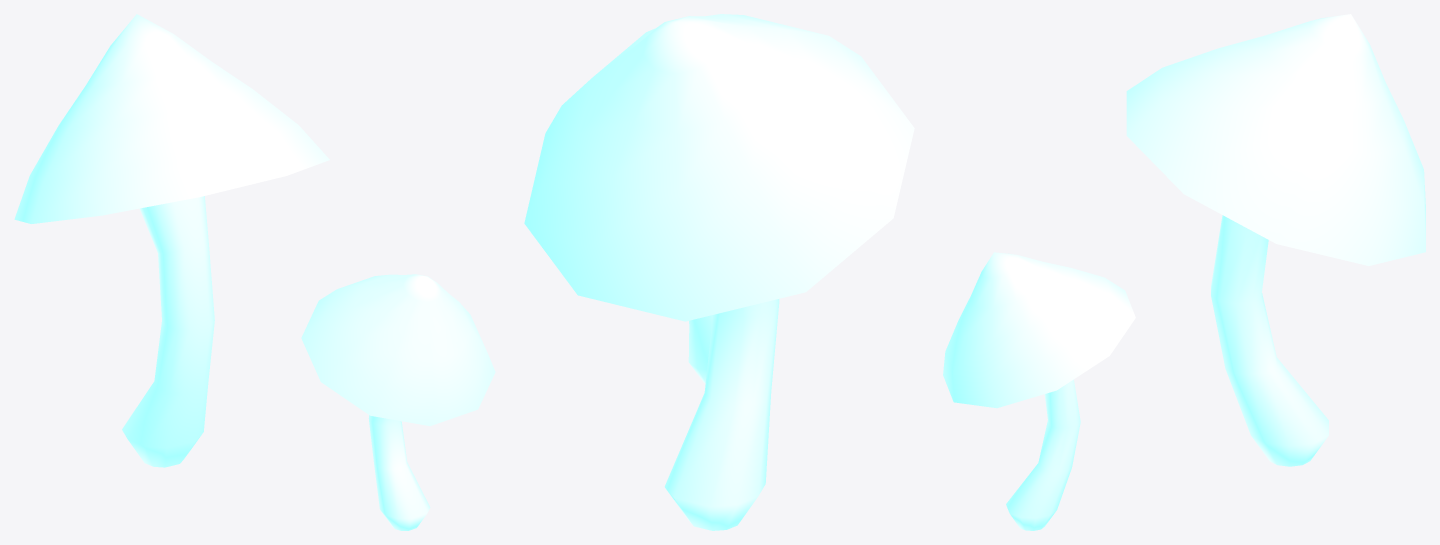
Rendered from mushrooms.fbx.
The picture shows the model from 3 angles, left to right: view 1: azimuth 30°, elevation 25°; view 2: azimuth 150°, elevation 25°; view 3: azimuth 270°, elevation 25°; orthographic projection. The views are drawn at different scales.
Parts seen in each view (by area): view 1: mushroom; view 2: mushroom; view 3: mushroom.
Boxes of the visible parts, x1,y1,x2,y2 form: mushroom: [14, 14, 495, 530]; mushroom: [524, 14, 914, 530]; mushroom: [943, 14, 1425, 530].
Bounding box in the file's own units: 49.01 × 59.04 × 57.25.
